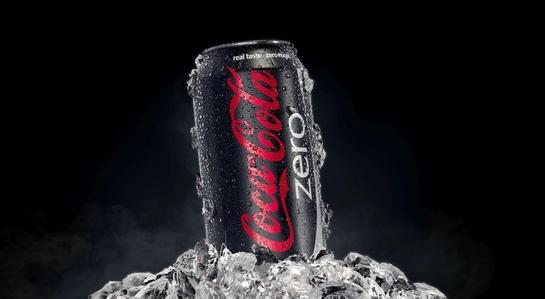coke_zero: (185, 37, 328, 267)
